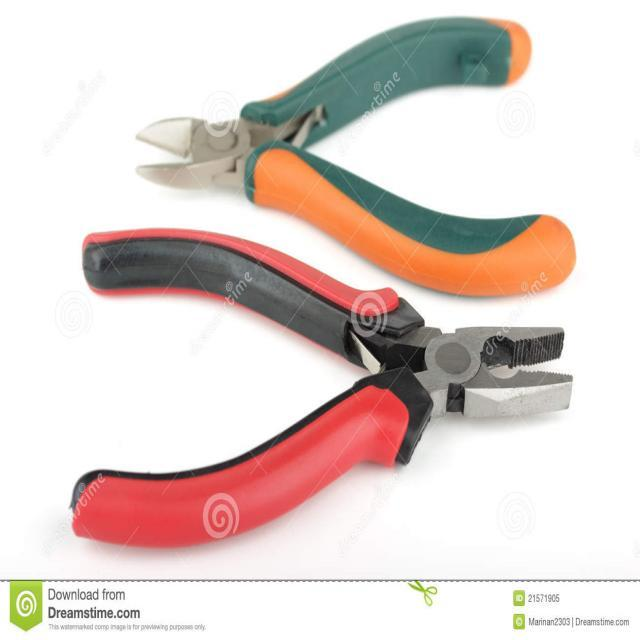pliers: (62, 220, 578, 552), (129, 10, 579, 304)
